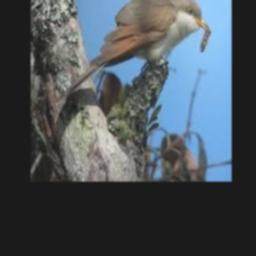Cuckoo: (66, 0, 208, 96)
